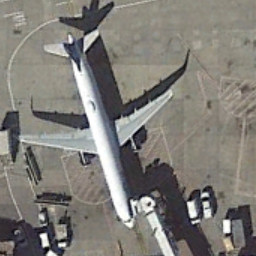Airplane: (10, 24, 192, 237)
